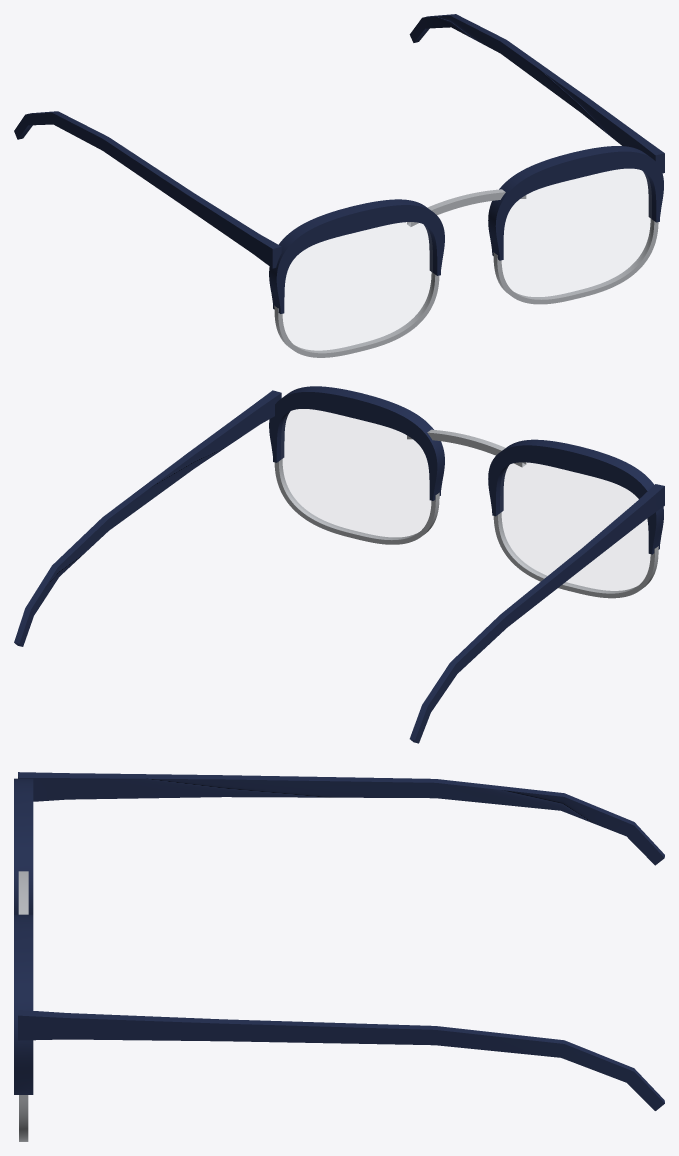
Rendered from model_5_navy_silver.glb.
3 renders of one model, top to bottom at view 1: azimuth 30°, elevation 25°; view 2: azimuth 150°, elevation 25°; view 3: azimuth 270°, elevation 25°, orthographic. The views are drawn at different scales.
Parts seen in each view (by area): view 1: Browline_Glasses; view 2: Browline_Glasses; view 3: Browline_Glasses.
Boxes of the visible parts, box(x1,y1,x2,y2) form: Browline_Glasses: box(14, 14, 664, 357); Browline_Glasses: box(14, 386, 664, 743); Browline_Glasses: box(14, 772, 664, 1141).
Bounding box in the file's own units: 0.1403 × 0.047 × 0.1538.
